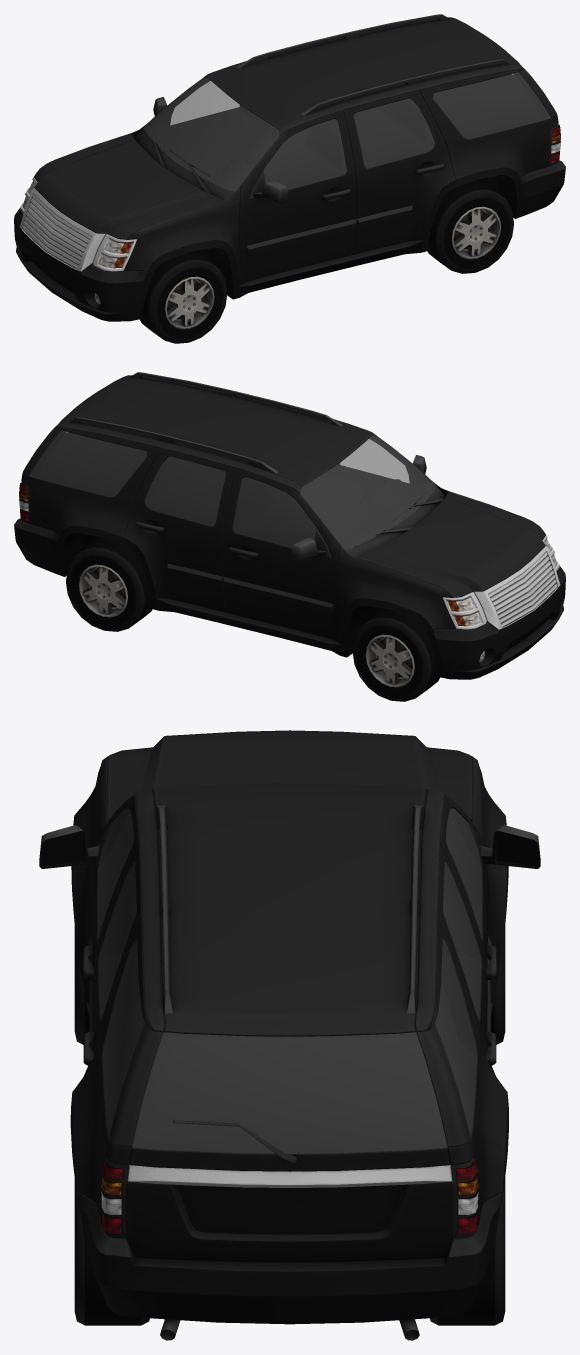
File: suv.glb
3 views of the same model, one above another, from view 1: azimuth 30°, elevation 25°; view 2: azimuth 150°, elevation 25°; view 3: azimuth 270°, elevation 25° (orthographic). The views are drawn at different scales.
Visible parts, largest first — view 1: suv; view 2: suv; view 3: suv.
Part boxes in pixels (x1,y1,x2,y2): suv: (14,14,565,343); suv: (14,372,565,701); suv: (39,730,540,1340).
Size of the model in its own units: 4.6 by 1.73 by 2.06.
4 materials, 3 textured.
